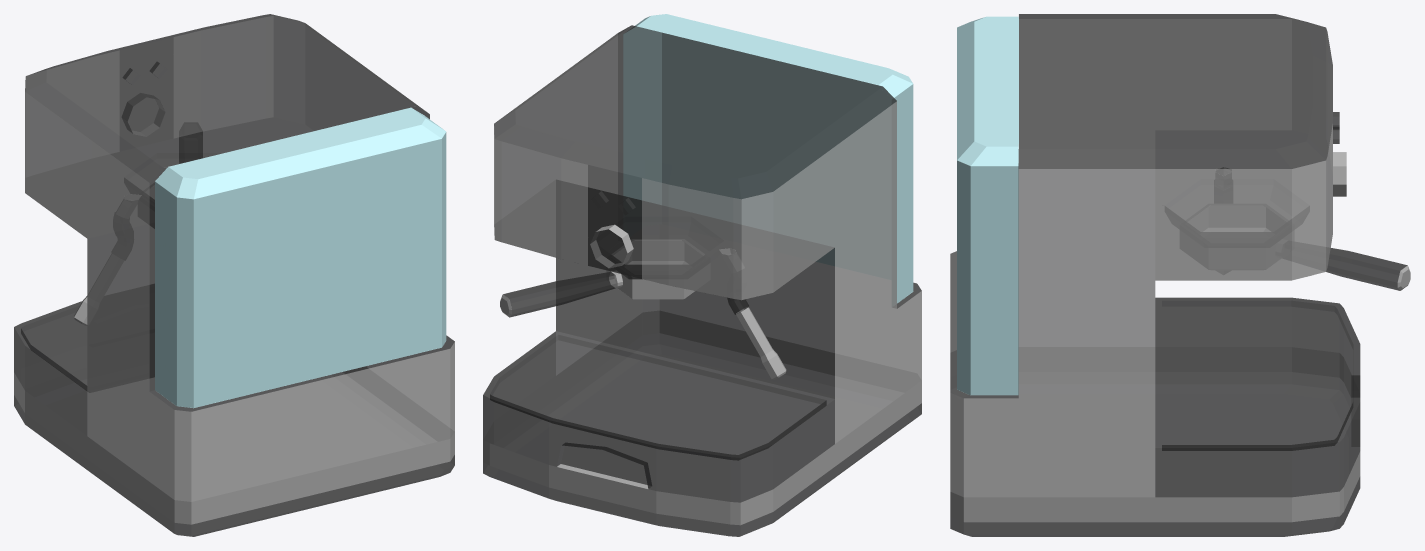
The model's file is single_espresso_exportPrep.gltf.
The picture shows the model from 3 angles, left to right: view 1: azimuth 30°, elevation 25°; view 2: azimuth 150°, elevation 25°; view 3: azimuth 270°, elevation 25°; orthographic projection. The views are drawn at different scales.
Parts seen in each view (by area): view 1: EspressoMachine; view 2: EspressoMachine; view 3: EspressoMachine.
Part boxes in pixels (box(x1,y1,x2,y2)): EspressoMachine: box(14, 14, 454, 536); EspressoMachine: box(483, 14, 921, 536); EspressoMachine: box(950, 14, 1410, 536).
Bounding box in the file's own units: 1.3 × 1.55 × 1.68.
